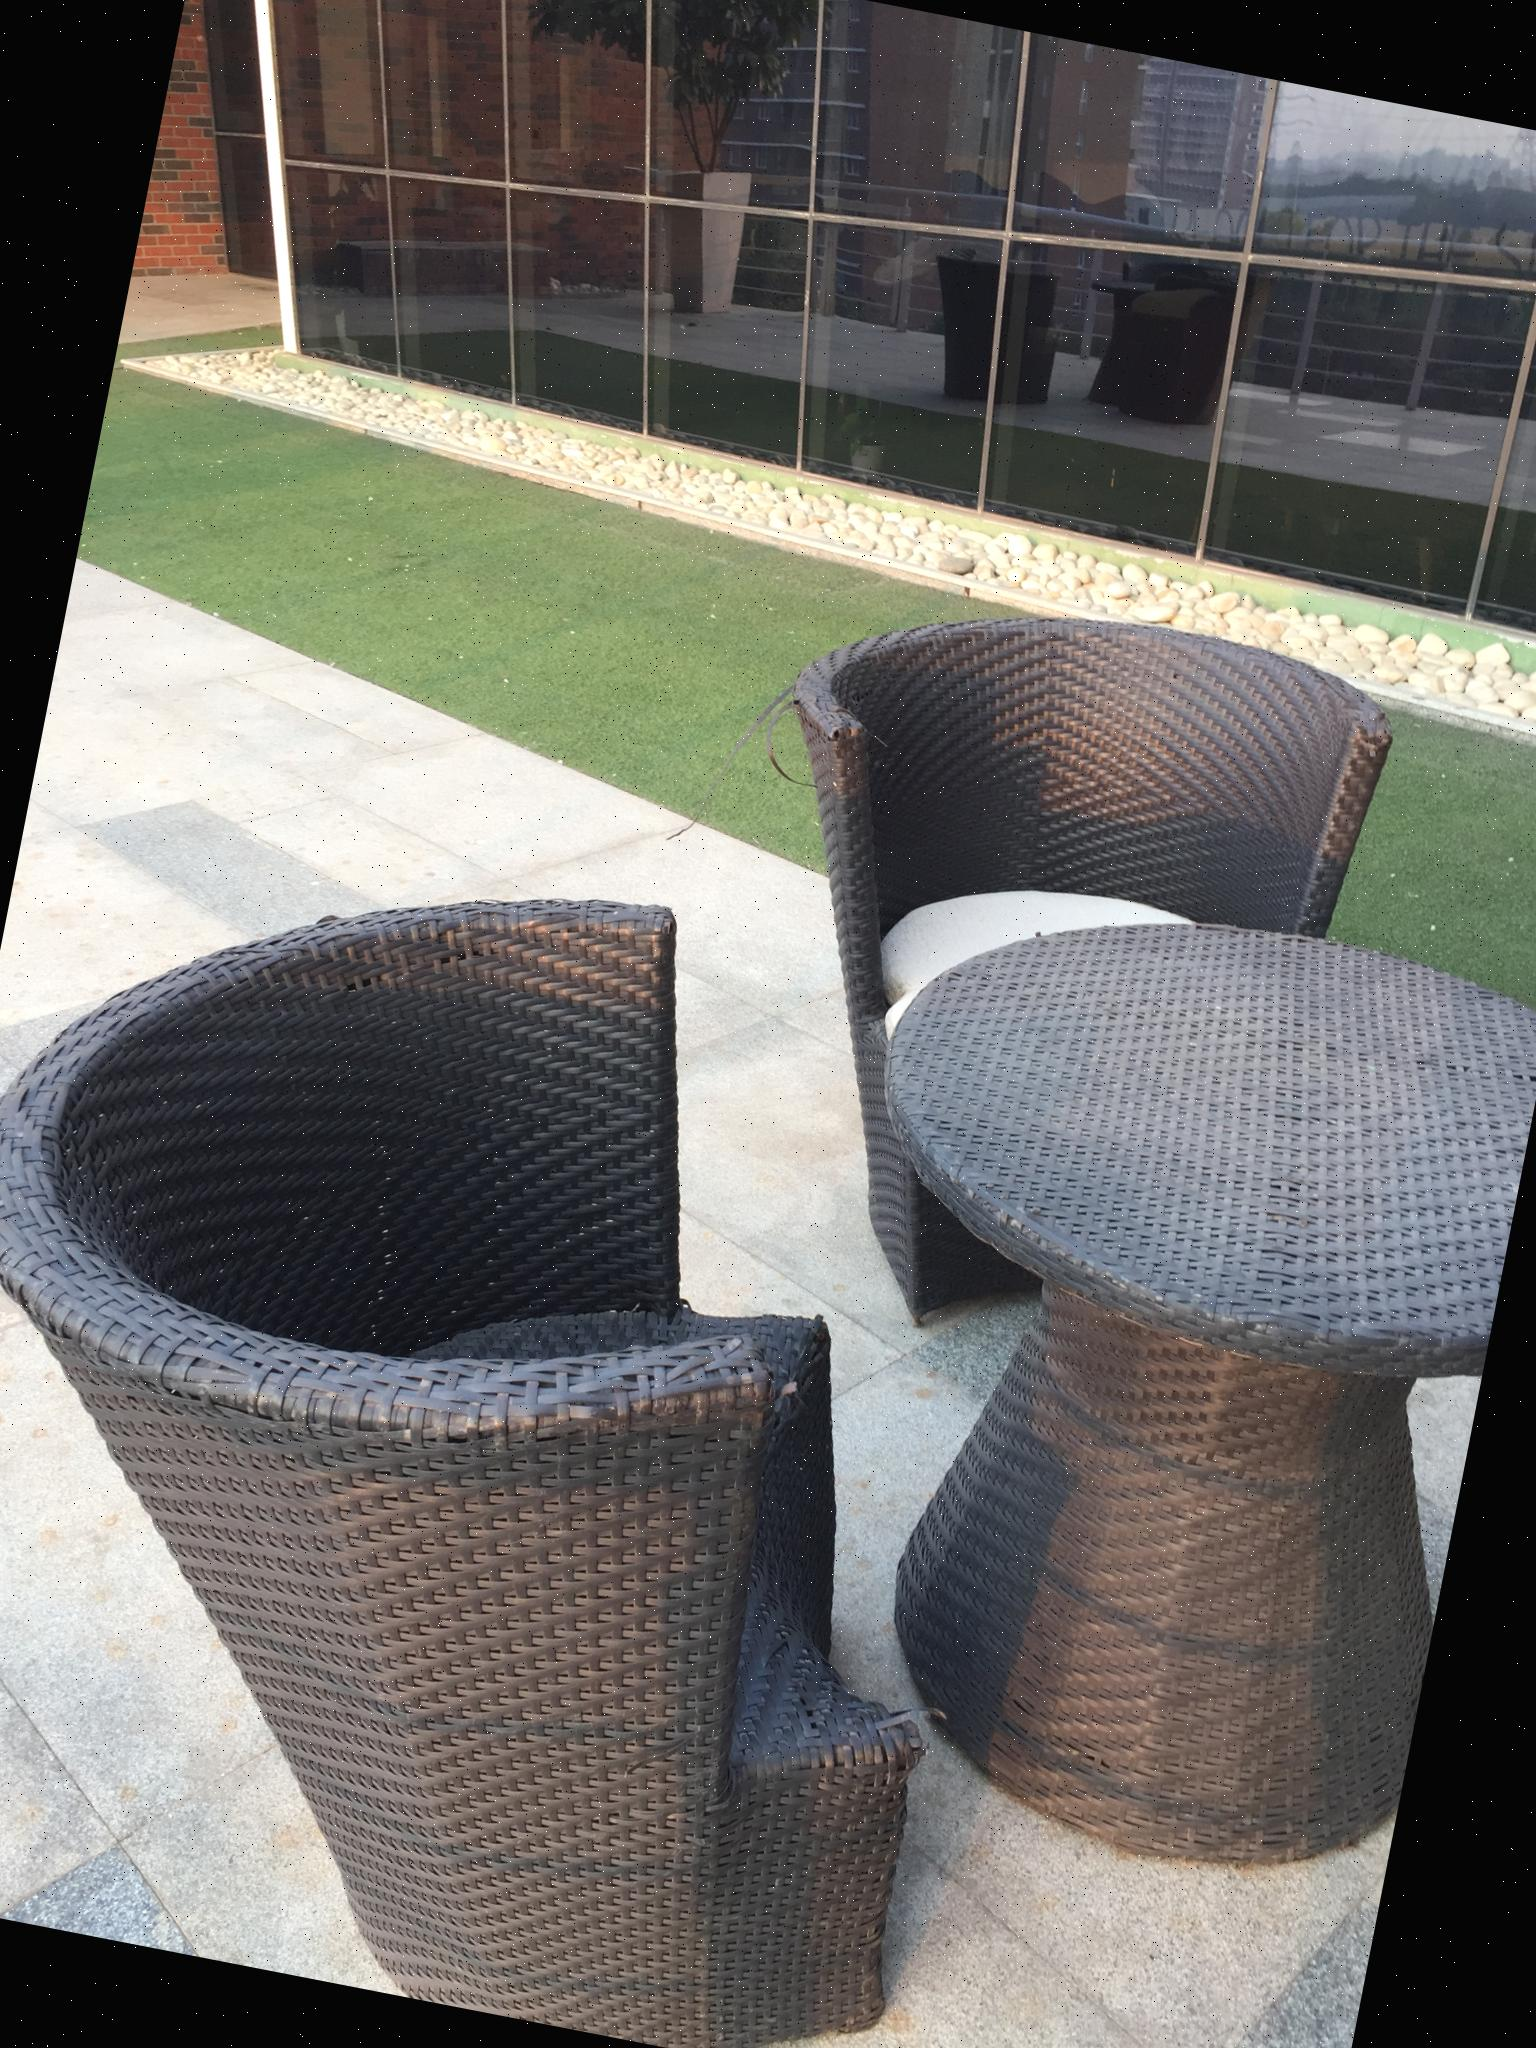chair: (0, 782, 1083, 2048), (676, 555, 1407, 1392)
